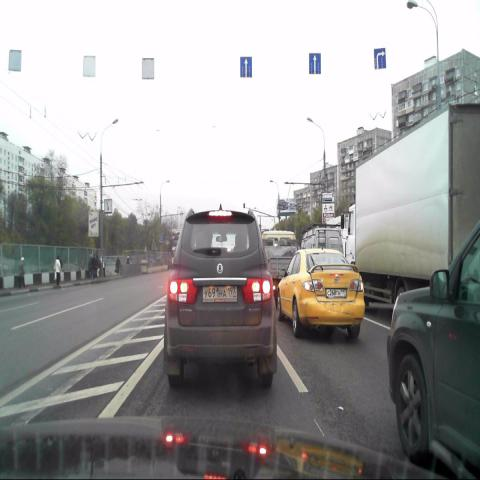5_15_2: (240, 56, 252, 78)
